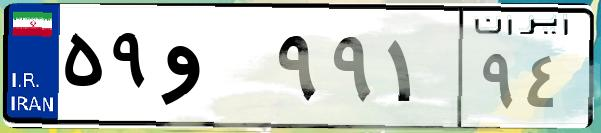1: (385, 28, 445, 110)
4: (525, 38, 570, 115)
5: (57, 26, 110, 100)
9: (270, 28, 330, 110), (330, 28, 385, 110), (475, 38, 525, 113), (110, 28, 158, 98)
و: (158, 20, 270, 120)
